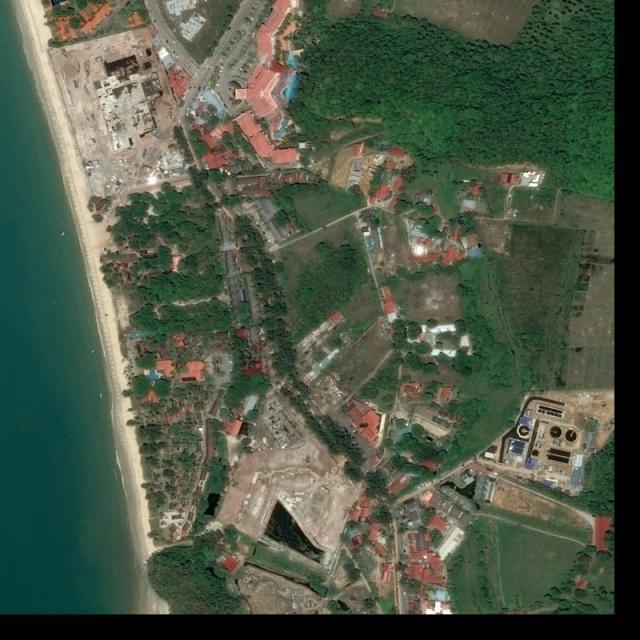ship: (60, 230, 66, 237)
